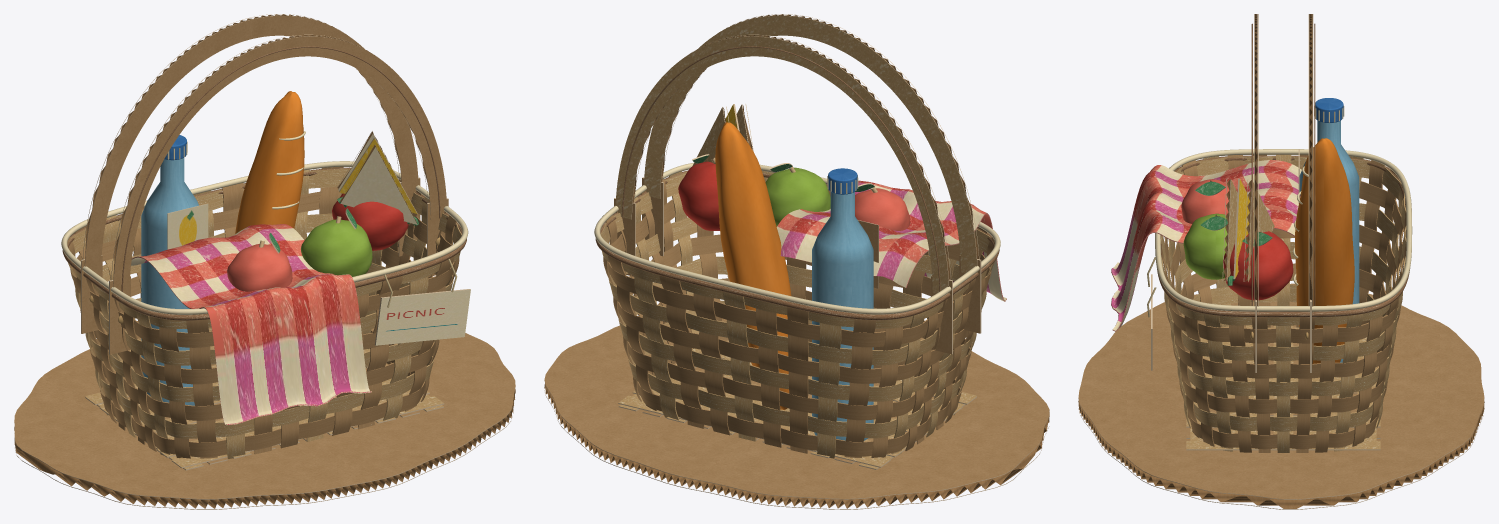
File: 35_woven_picnic_basket.glb
3 renders of one model, left to right at view 1: azimuth 30°, elevation 25°; view 2: azimuth 150°, elevation 25°; view 3: azimuth 270°, elevation 25°, orthographic. The views are drawn at different scales.
Visible parts, largest first — view 1: kraft, artwork_35_woven_picnic_basket, sand, clay_orange, cream, flute, edge, paint_sky, clay_lime, brown, clay_coral, clay_red (+1 smaller); view 2: kraft, sand, clay_orange, artwork_35_woven_picnic_basket, paint_sky, flute, edge, cream, brown, clay_lime, clay_red, clay_coral (+1 smaller); view 3: kraft, sand, artwork_35_woven_picnic_basket, clay_orange, flute, edge, cream, brown, clay_red, clay_lime, paint_sky, clay_coral (+3 smaller).
Boxes of the visible parts, <box> form: kraft: <box>14,15,515,498</box>; artwork_35_woven_picnic_basket: <box>131,204,470,425</box>; sand: <box>68,168,462,469</box>; clay_orange: <box>235,91,304,233</box>; cream: <box>61,134,468,314</box>; flute: <box>14,14,515,508</box>; edge: <box>14,14,515,509</box>; paint_sky: <box>141,158,198,405</box>; clay_lime: <box>301,219,372,276</box>; brown: <box>62,46,466,320</box>; clay_coral: <box>227,244,292,291</box>; clay_red: <box>332,193,408,250</box>; kraft: <box>544,178,1049,498</box>; sand: <box>600,15,994,468</box>; clay_orange: <box>715,122,791,410</box>; artwork_35_woven_picnic_basket: <box>776,180,1006,301</box>; paint_sky: <box>812,192,873,440</box>; flute: <box>544,14,1049,508</box>; edge: <box>544,14,1049,509</box>; cream: <box>594,162,1000,314</box>; brown: <box>595,46,999,320</box>; clay_lime: <box>765,167,830,226</box>; clay_red: <box>678,161,719,230</box>; clay_coral: <box>855,188,910,230</box>; kraft: <box>1078,154,1484,499</box>; sand: <box>1160,154,1406,452</box>; artwork_35_woven_picnic_basket: <box>1111,160,1301,331</box>; clay_orange: <box>1295,138,1354,363</box>; flute: <box>1078,14,1484,508</box>; edge: <box>1078,14,1484,509</box>; cream: <box>1155,106,1412,311</box>; brown: <box>1157,23,1410,317</box>; clay_red: <box>1223,231,1293,300</box>; clay_lime: <box>1183,213,1227,279</box>; paint_sky: <box>1299,120,1359,362</box>; clay_coral: <box>1181,179,1229,223</box>.
Size of the model in its own units: 0.3927 by 0.3158 by 0.3113.
Materials: 19 (18 with a texture image).
